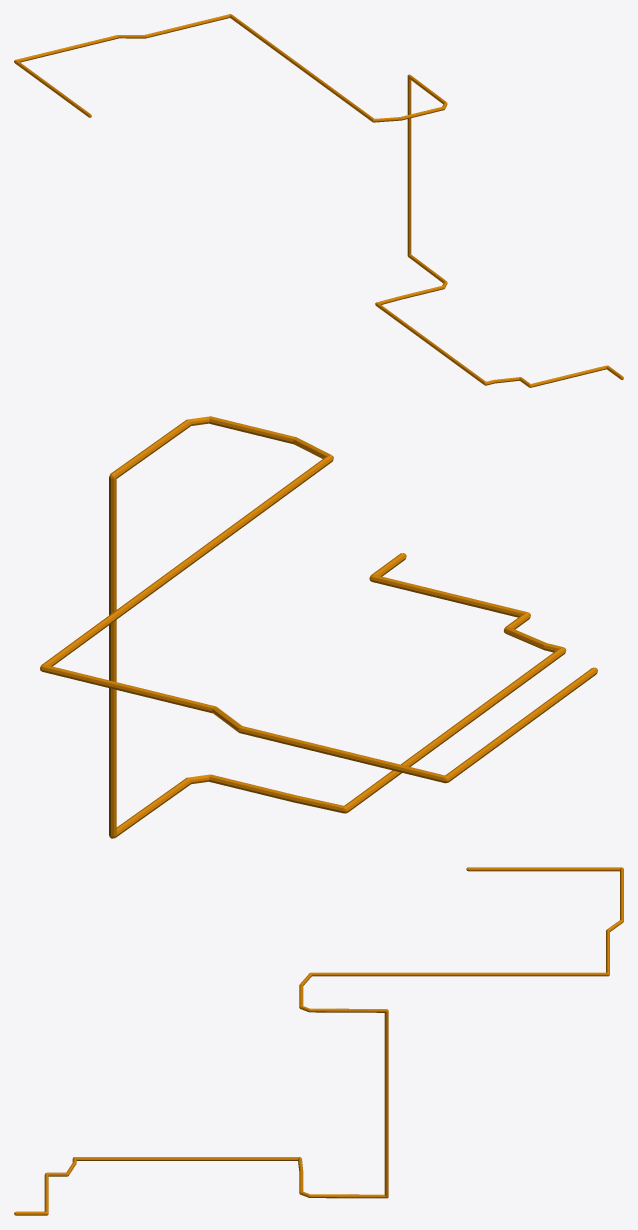
3 renders of one model, top to bottom at view 1: azimuth 30°, elevation 25°; view 2: azimuth 150°, elevation 25°; view 3: azimuth 270°, elevation 25°, orthographic. The views are drawn at different scales.
Bounding box in the file's own units: 1855 × 1020 × 2979.
